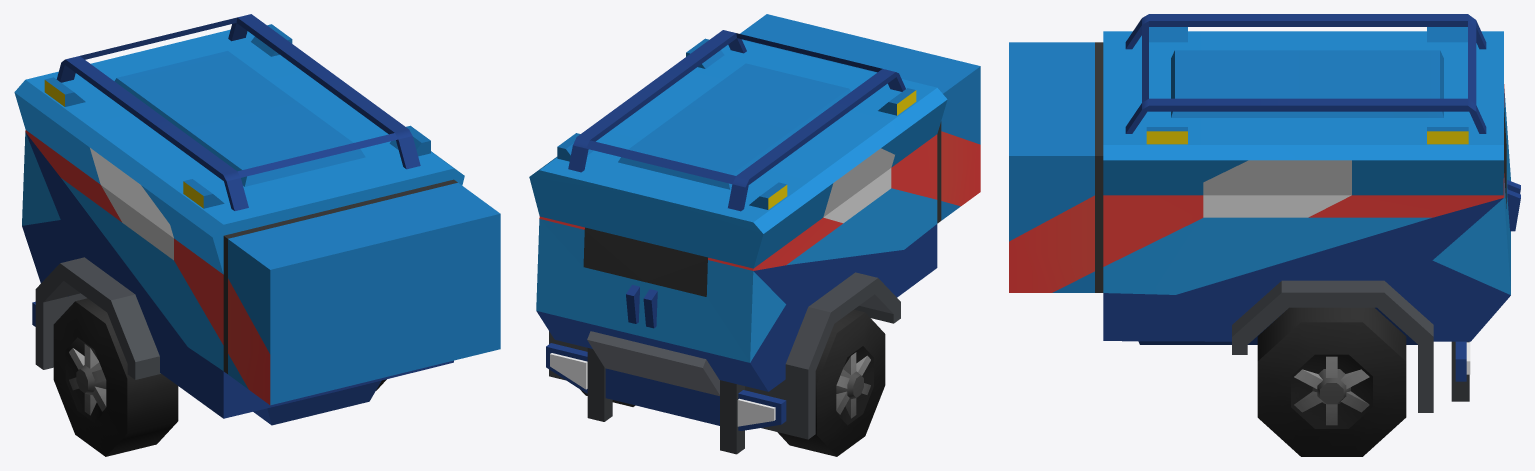
The model's file is cargo_00_SP2_1.fbx.
3 views of the same model, side by side, from view 1: azimuth 30°, elevation 25°; view 2: azimuth 150°, elevation 25°; view 3: azimuth 270°, elevation 25° (orthographic). The views are drawn at different scales.
Parts seen in each view (by area): view 1: cargo_00_SP2_1; view 2: cargo_00_SP2_1; view 3: cargo_00_SP2_1.
Boxes of the visible parts, <box> form: cargo_00_SP2_1: <box>14,14,500,456</box>; cargo_00_SP2_1: <box>529,14,980,456</box>; cargo_00_SP2_1: <box>1009,14,1520,456</box>.
Bounding box in the file's own units: 1722 × 1875 × 2632.
